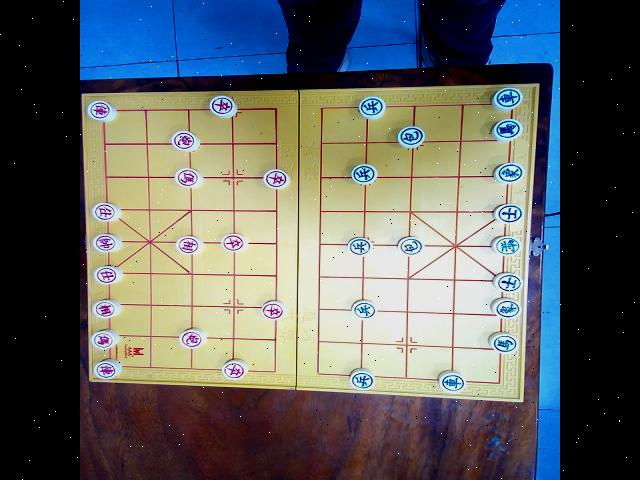piece: (492, 87, 523, 110), (492, 119, 523, 141), (494, 162, 525, 183), (87, 100, 117, 121), (359, 96, 386, 119), (171, 130, 200, 151), (491, 235, 521, 255), (489, 332, 519, 352), (491, 298, 521, 318), (438, 370, 465, 392), (398, 126, 425, 148), (210, 95, 237, 117), (494, 203, 523, 223), (493, 273, 523, 292), (179, 328, 207, 348), (94, 359, 122, 379), (174, 168, 203, 187), (350, 368, 375, 390), (263, 168, 290, 188), (91, 329, 119, 348), (93, 233, 121, 252), (94, 265, 123, 283), (92, 299, 121, 317), (92, 202, 121, 220), (222, 359, 248, 379), (351, 164, 377, 184), (176, 235, 203, 254), (221, 233, 248, 251), (262, 300, 287, 319), (352, 299, 376, 318), (347, 237, 372, 255), (398, 236, 423, 254)
